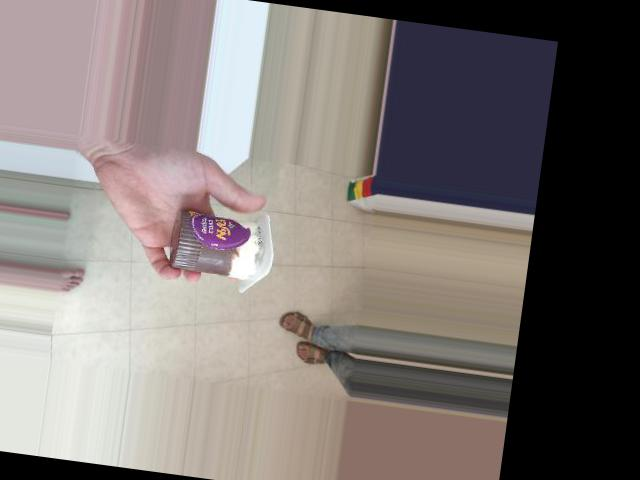milky: (166, 205, 286, 299)
